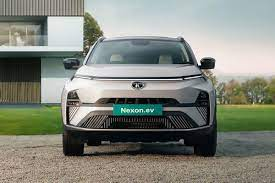Tata Nexon: (61, 31, 218, 160)
